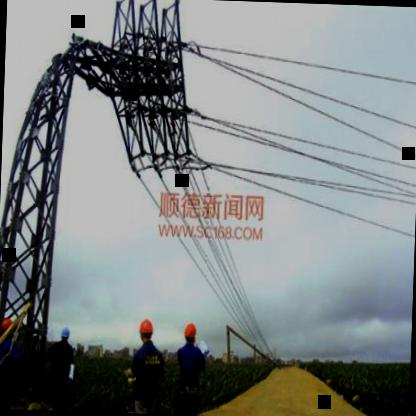helmet: (136, 316, 158, 346), (0, 317, 20, 342), (181, 322, 197, 349), (55, 323, 71, 345)
